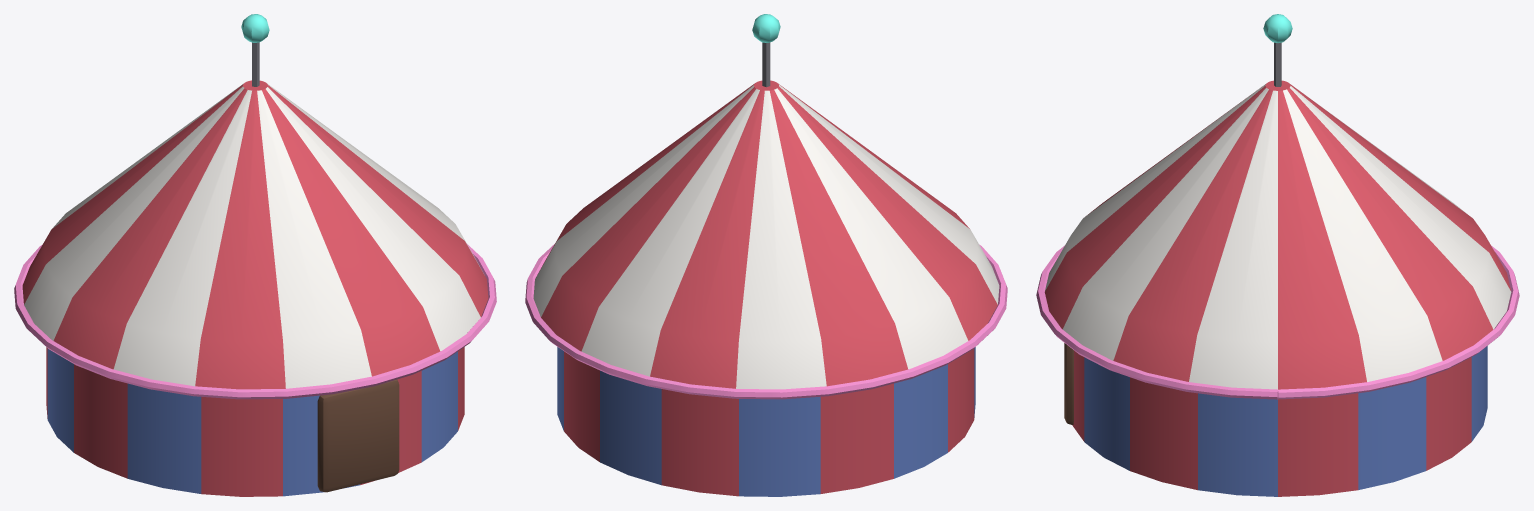
File: CircusTent_Small.fbx
3 views of the same model, side by side, from view 1: azimuth 30°, elevation 25°; view 2: azimuth 150°, elevation 25°; view 3: azimuth 270°, elevation 25° (orthographic).
Parts seen in each view (by area): view 1: CircusTent_Small; view 2: CircusTent_Small; view 3: CircusTent_Small.
Boxes of the visible parts, x1,y1,x2,y2 form: CircusTent_Small: (14,14,496,496); CircusTent_Small: (525,14,1007,496); CircusTent_Small: (1036,14,1519,496).
Bounding box in the file's own units: 11.54 × 10.35 × 11.54.
